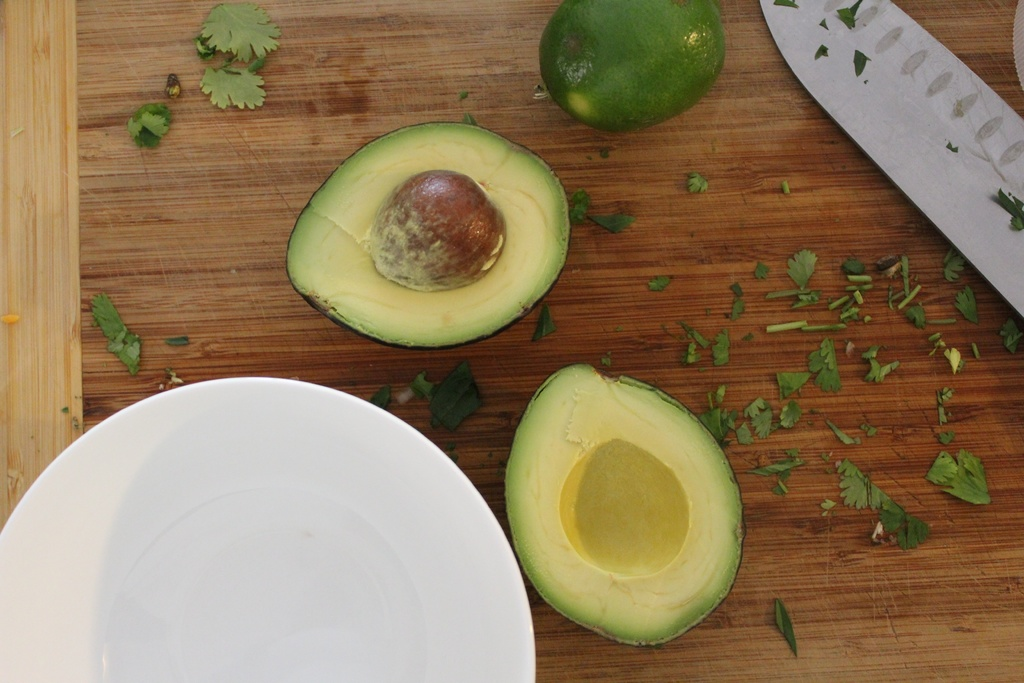plate: (28, 377, 508, 666)
